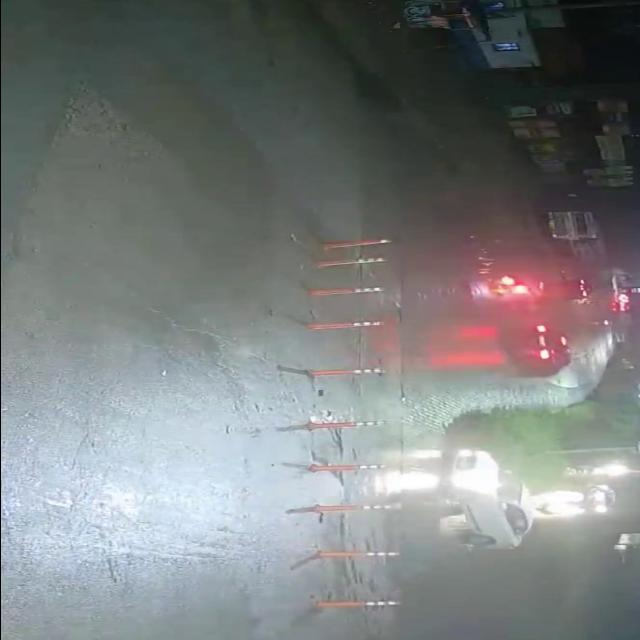accident: (471, 258, 541, 306)
